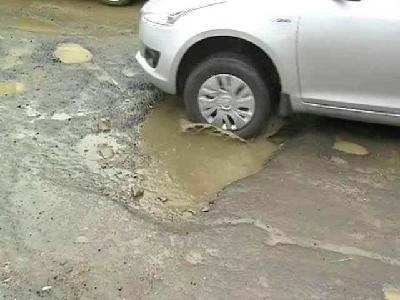pothole: (91, 77, 288, 231), (48, 39, 93, 63), (329, 137, 370, 157), (0, 72, 28, 99)
